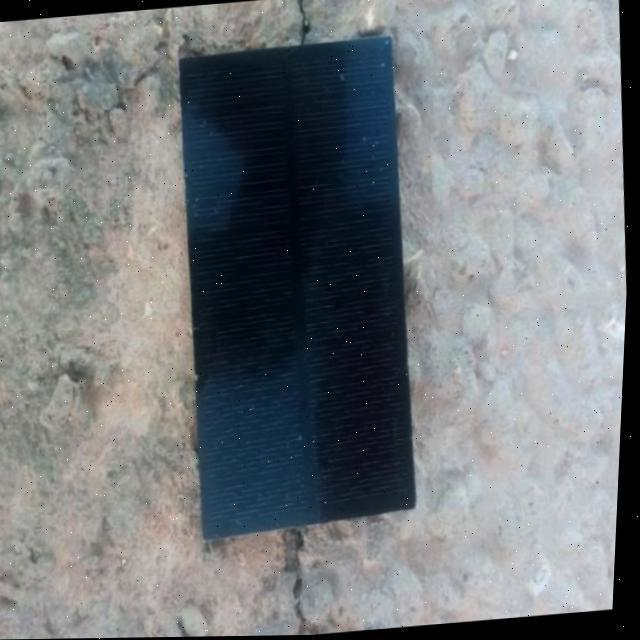Normal Solar Panel: (161, 34, 437, 542)
